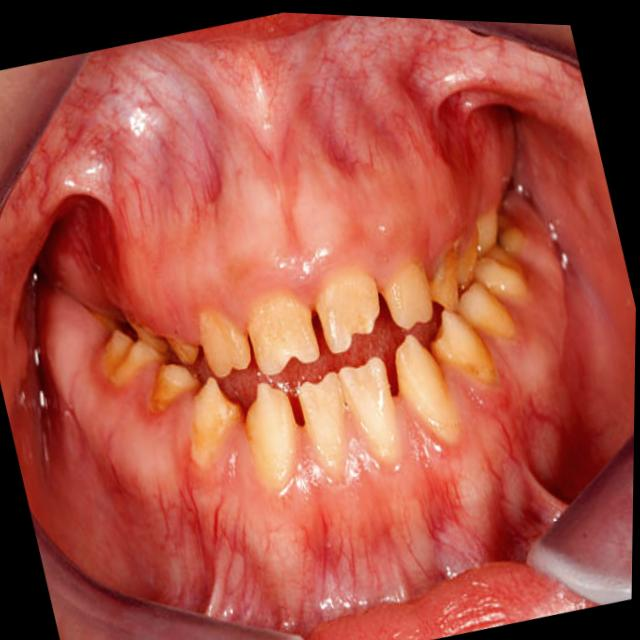gingivitis: (52, 16, 511, 340), (176, 370, 576, 556)
